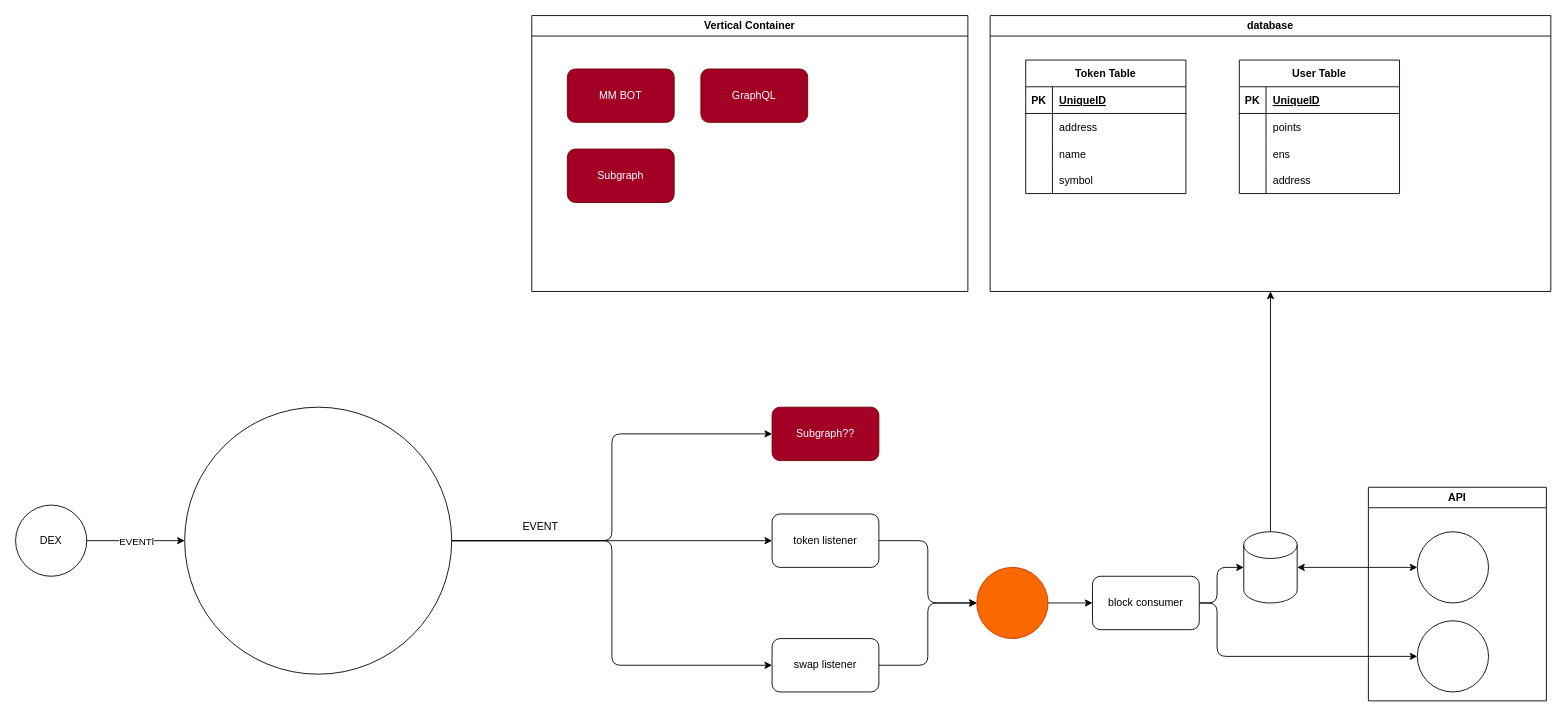
The diagram is 1566 pixels wide and 716 high, and some of its shapes have lost their labels. The centre of each missing label's shape, as x and y in pixels:
"BLOCKCHAIN" goes at point 318,540.
"DB" goes at point 1270,567.
"HTTP" goes at point 1452,567.
"RMQ" goes at point 1012,602.
"WS" goes at point 1452,656.
